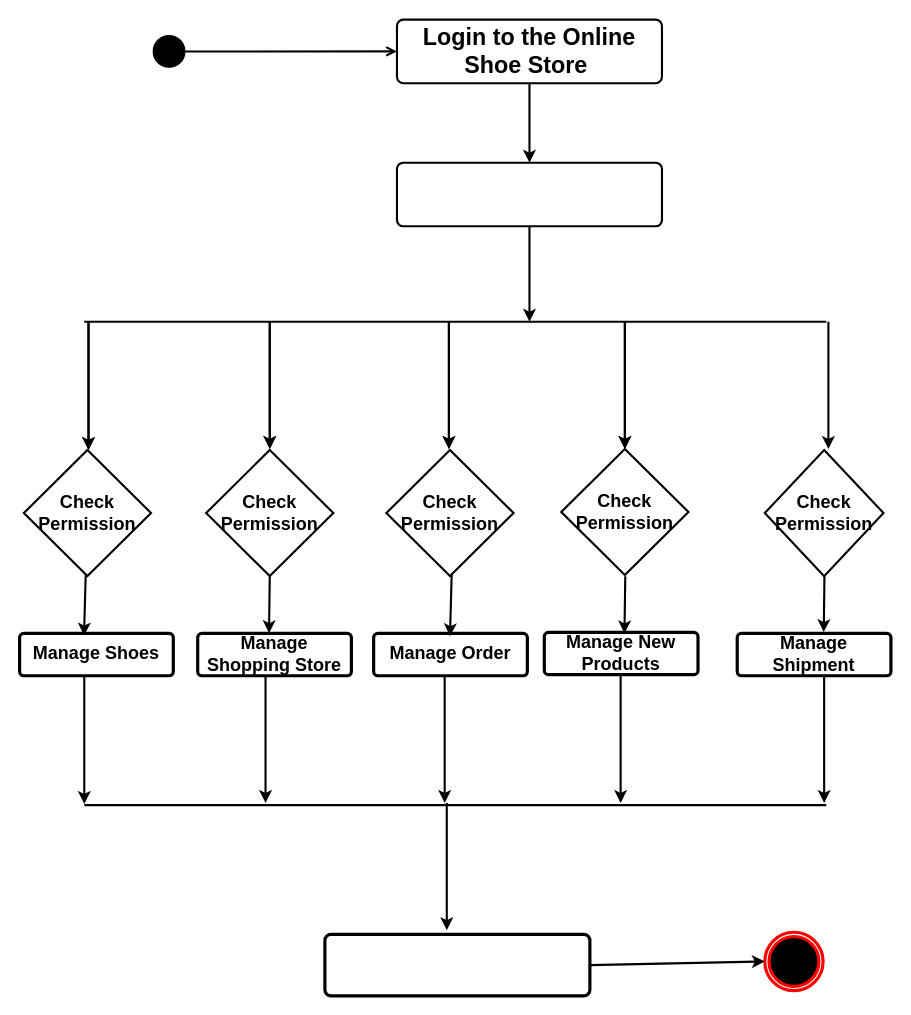
Image size: 911x1015. Some labels were removed from this diagram. The shapes that lost their labels are listed below. From the top down, each one's centre as x and y in pixels, then its label:
the point at 528,194: Check User Level and Permission
the point at 457,964: Logout from the System
